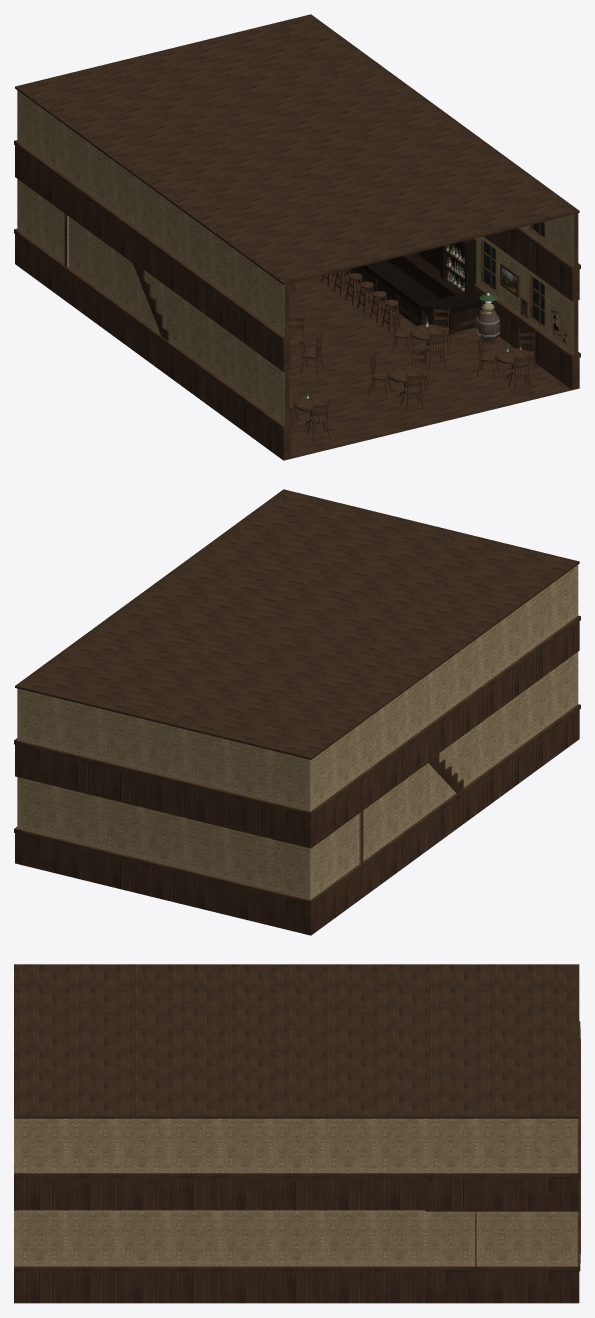
3 renders of one model, top to bottom at view 1: azimuth 30°, elevation 25°; view 2: azimuth 150°, elevation 25°; view 3: azimuth 270°, elevation 25°, orthographic. The views are drawn at different scales.
Parts seen in each view (by area): view 1: EnvironmentBuilt:SM_BarCorner1, EnvironmentBuilt:SM_Wall34, EnvironmentBuilt:SM_Wall55, EnvironmentBuilt:SM_Wall35, EnvironmentBuilt:SM_Wall60, EnvironmentBuilt:SM_Wall1, EnvironmentBuilt:SM_WallWindow7, EnvironmentBuilt:SM_Wall56, EnvironmentBuilt:SM_WallWindow16, EnvironmentBuilt:SM_Wall41, EnvironmentBuilt:SM_WallWindow17, EnvironmentBuilt:SM_Wall40 (+121 smaller); view 2: SM_WallCorner3, SM_WallCorner2, EnvironmentBuilt:SM_Wall20, EnvironmentBuilt:SM_Wall18, EnvironmentBuilt:SM_Wall22, EnvironmentBuilt:SM_Wall21, EnvironmentBuilt:SM_Wall32, EnvironmentBuilt:SM_Wall44, EnvironmentBuilt:SM_WallWindow29, EnvironmentBuilt:SM_Wall46, EnvironmentBuilt:SM_WallWindow30, EnvironmentBuilt:SM_WallWindow28 (+99 smaller); view 3: EnvironmentBuilt:SM_Wall11, EnvironmentBuilt:SM_Wall59, EnvironmentBuilt:SM_Wall8, EnvironmentBuilt:SM_WallWindow22, EnvironmentBuilt:SM_WallWindow23, EnvironmentBuilt:SM_Wall7, EnvironmentBuilt:SM_Wall38, EnvironmentBuilt:SM_Wall35, EnvironmentBuilt:SM_WallWindow24, EnvironmentBuilt:SM_Wall50, EnvironmentBuilt:SM_WallWindow21, EnvironmentBuilt:SM_WallWindow26 (+87 smaller).
Boxes of the visible parts, box(x1,y1,x2,y2) form: EnvironmentBuilt:SM_BarCorner1: box(395, 282, 485, 334); EnvironmentBuilt:SM_Wall34: box(258, 355, 292, 460); EnvironmentBuilt:SM_Wall55: box(258, 268, 292, 371); EnvironmentBuilt:SM_Wall35: box(546, 285, 580, 389); EnvironmentBuilt:SM_Wall60: box(546, 213, 580, 301); EnvironmentBuilt:SM_Wall1: box(209, 320, 236, 424); EnvironmentBuilt:SM_WallWindow7: box(233, 338, 260, 442); EnvironmentBuilt:SM_Wall56: box(209, 233, 236, 335); EnvironmentBuilt:SM_WallWindow16: box(184, 302, 211, 406); EnvironmentBuilt:SM_Wall41: box(62, 125, 89, 228); EnvironmentBuilt:SM_WallWindow17: box(233, 251, 260, 353); EnvironmentBuilt:SM_Wall40: box(87, 143, 113, 246); SM_WallCorner3: box(268, 832, 336, 935); SM_WallCorner2: box(268, 743, 336, 846); EnvironmentBuilt:SM_Wall20: box(99, 797, 142, 894); EnvironmentBuilt:SM_Wall18: box(225, 828, 269, 925); EnvironmentBuilt:SM_Wall22: box(183, 818, 227, 914); EnvironmentBuilt:SM_Wall21: box(141, 807, 184, 904); EnvironmentBuilt:SM_Wall32: box(56, 787, 100, 883); EnvironmentBuilt:SM_Wall44: box(183, 729, 227, 826); EnvironmentBuilt:SM_WallWindow29: box(141, 719, 184, 815); EnvironmentBuilt:SM_Wall46: box(99, 709, 142, 805); EnvironmentBuilt:SM_WallWindow30: box(56, 698, 100, 794); EnvironmentBuilt:SM_WallWindow28: box(225, 740, 269, 836); EnvironmentBuilt:SM_Wall11: box(116, 1210, 168, 1303); EnvironmentBuilt:SM_Wall59: box(116, 1118, 168, 1210); EnvironmentBuilt:SM_Wall8: box(322, 1210, 373, 1303); EnvironmentBuilt:SM_WallWindow22: box(65, 1210, 116, 1303); EnvironmentBuilt:SM_WallWindow23: box(168, 1210, 219, 1303); EnvironmentBuilt:SM_Wall7: box(219, 1210, 270, 1303); EnvironmentBuilt:SM_Wall38: box(374, 1210, 425, 1303); EnvironmentBuilt:SM_Wall35: box(14, 1210, 65, 1303); EnvironmentBuilt:SM_WallWindow24: box(271, 1210, 322, 1303); EnvironmentBuilt:SM_Wall50: box(322, 1118, 373, 1210); EnvironmentBuilt:SM_WallWindow21: box(65, 1118, 116, 1210); EnvironmentBuilt:SM_WallWindow26: box(168, 1118, 219, 1210).
Bounding box in the file's own units: 0.0706 × 0.0401 × 0.1103.
Materials: 5 (5 with a texture image).
